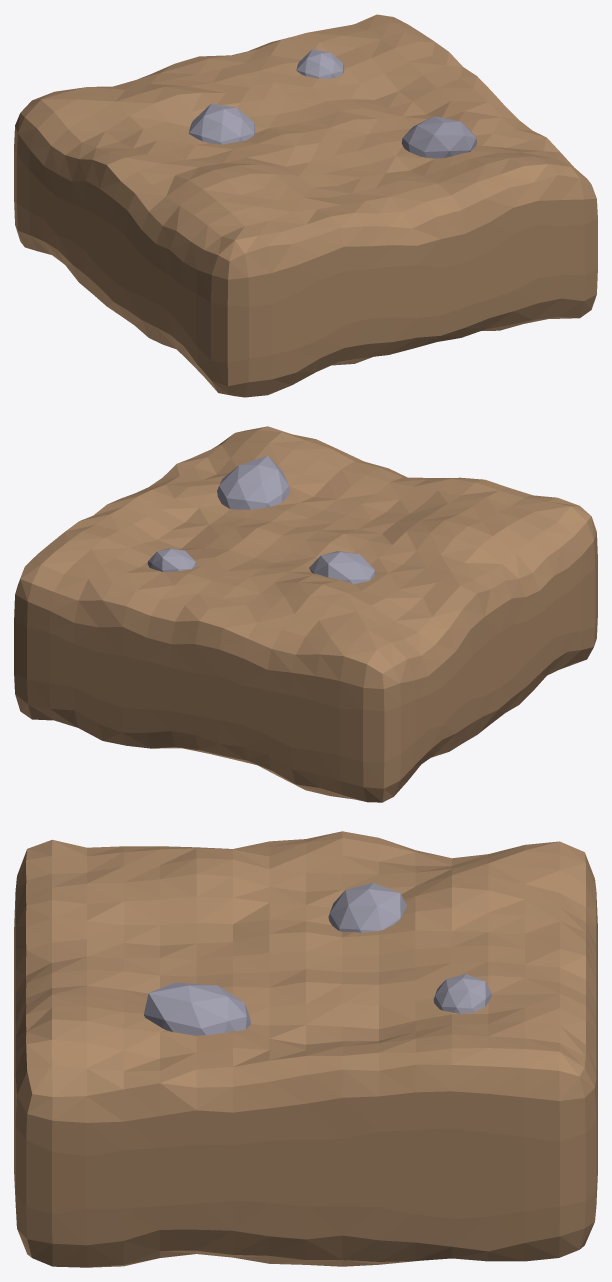
The model's file is dirt1.glb.
3 renders of one model, top to bottom at view 1: azimuth 30°, elevation 25°; view 2: azimuth 150°, elevation 25°; view 3: azimuth 270°, elevation 25°, orthographic. The views are drawn at different scales.
Visible parts, largest first — view 1: Cube, Icosphere, Icosphere.001, Icosphere.002; view 2: Cube, Icosphere, Icosphere.001, Icosphere.002; view 3: Cube, Icosphere, Icosphere.001, Icosphere.002.
Boxes of the visible parts, box(x1,y1,x2,y2) form: Cube: box(14, 14, 597, 397); Icosphere: box(401, 116, 476, 158); Icosphere.001: box(189, 103, 255, 144); Icosphere.002: box(296, 49, 344, 78); Cube: box(14, 426, 597, 802); Icosphere: box(217, 455, 289, 509); Icosphere.001: box(309, 551, 375, 583); Icosphere.002: box(147, 548, 196, 572); Cube: box(14, 831, 597, 1267); Icosphere: box(143, 982, 250, 1035); Icosphere.001: box(328, 883, 406, 932); Icosphere.002: box(433, 974, 491, 1013).
Bounding box in the file's own units: 2 × 0.8899 × 2.
